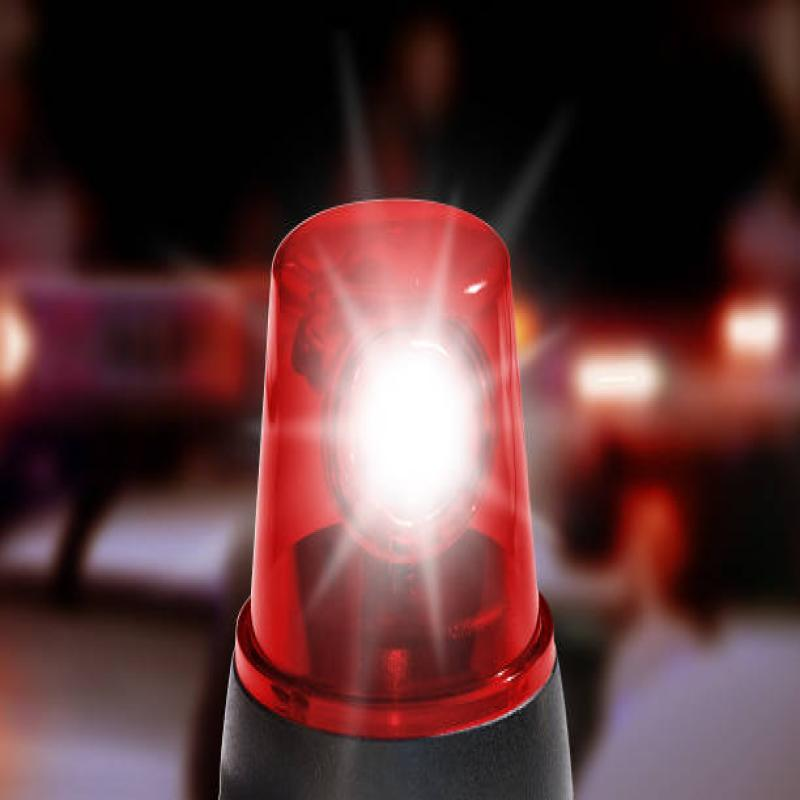AmbulanceSiren: (206, 164, 580, 800)
